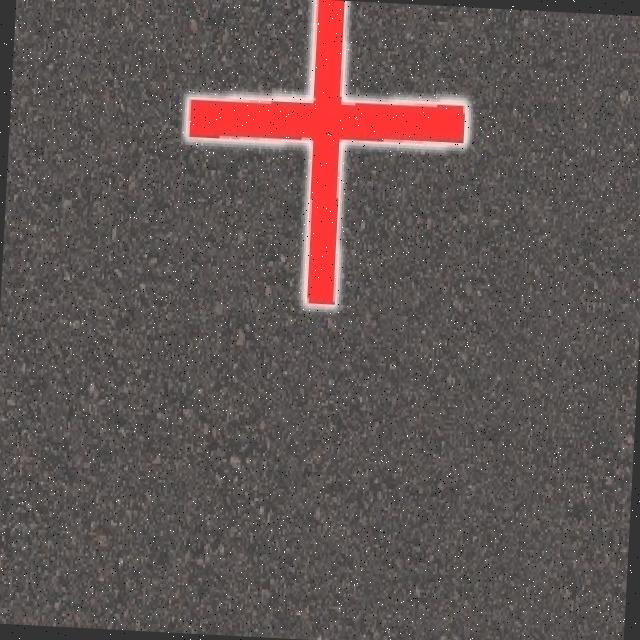x_marker: (178, 0, 472, 311)
